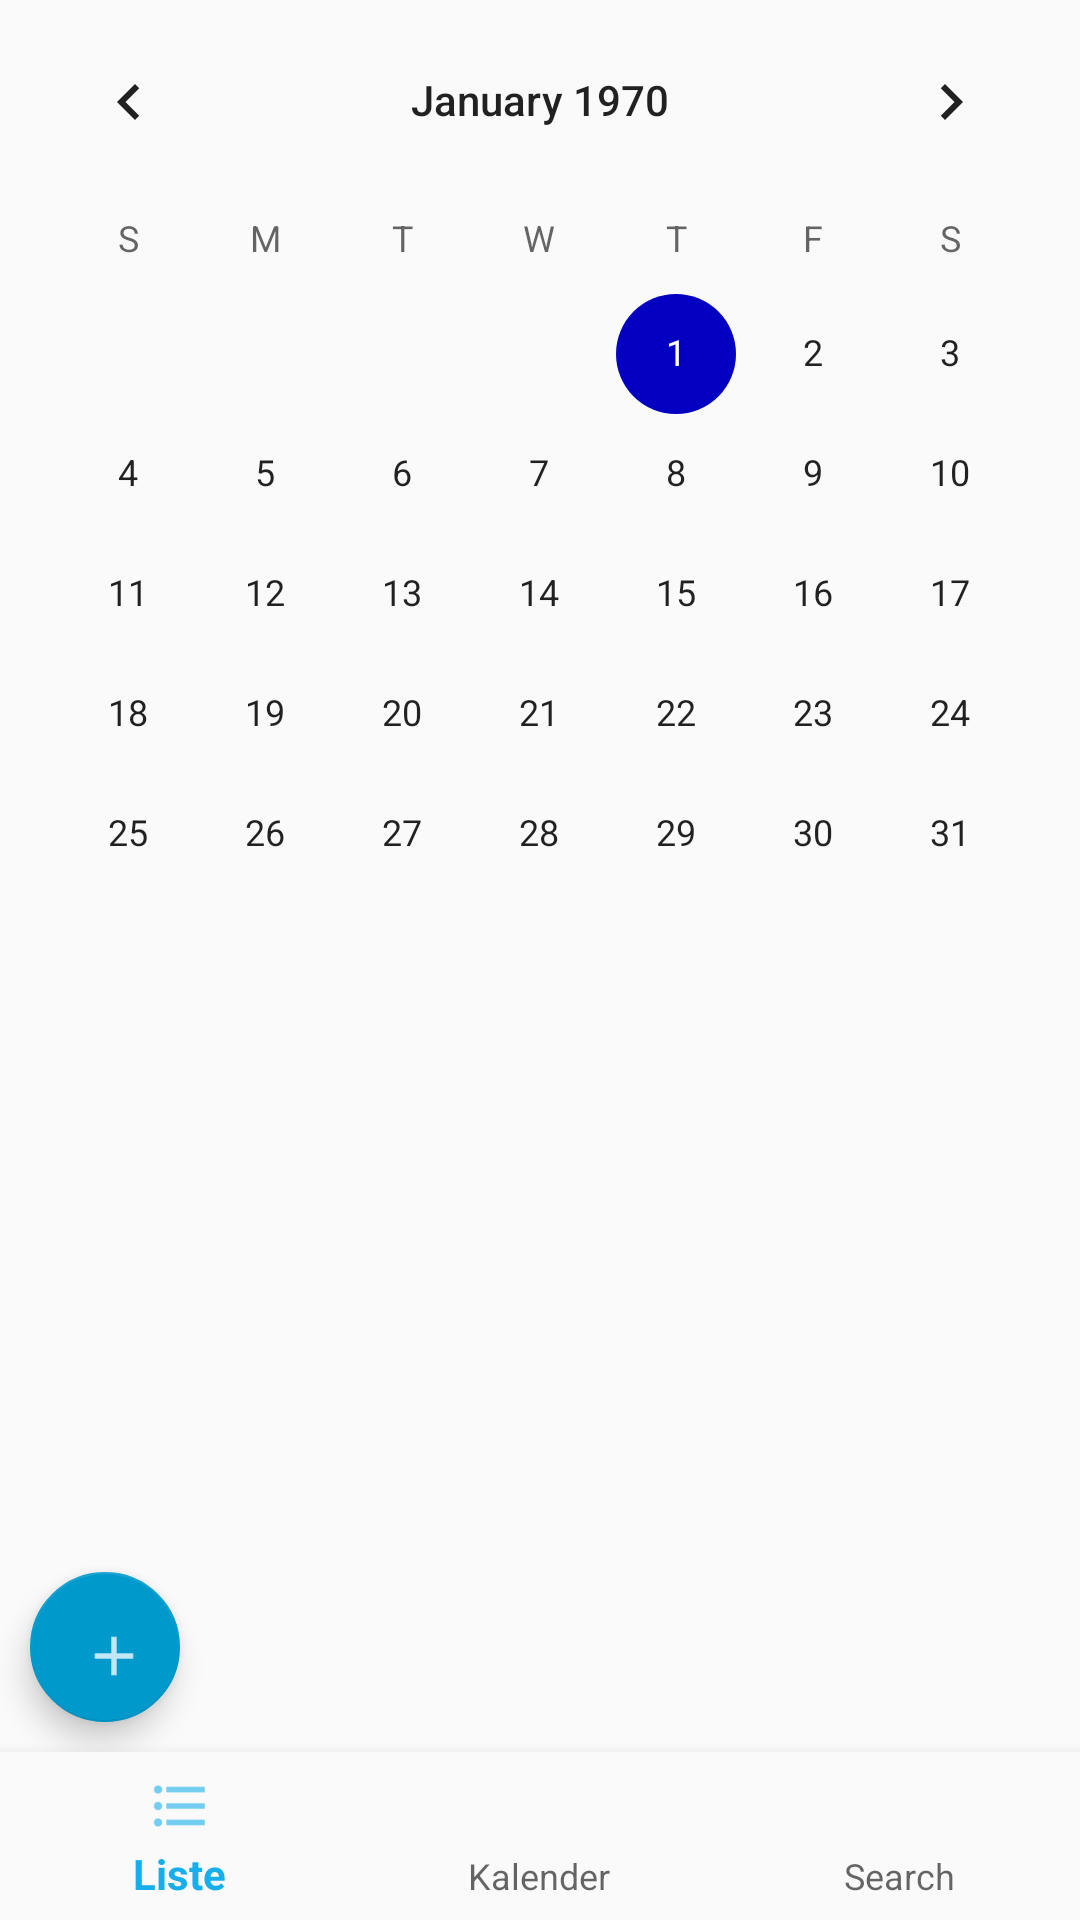

Screen size 1080*1920. Icon name, then its center in pixels as point (x, y):
add: point (105, 1647)
